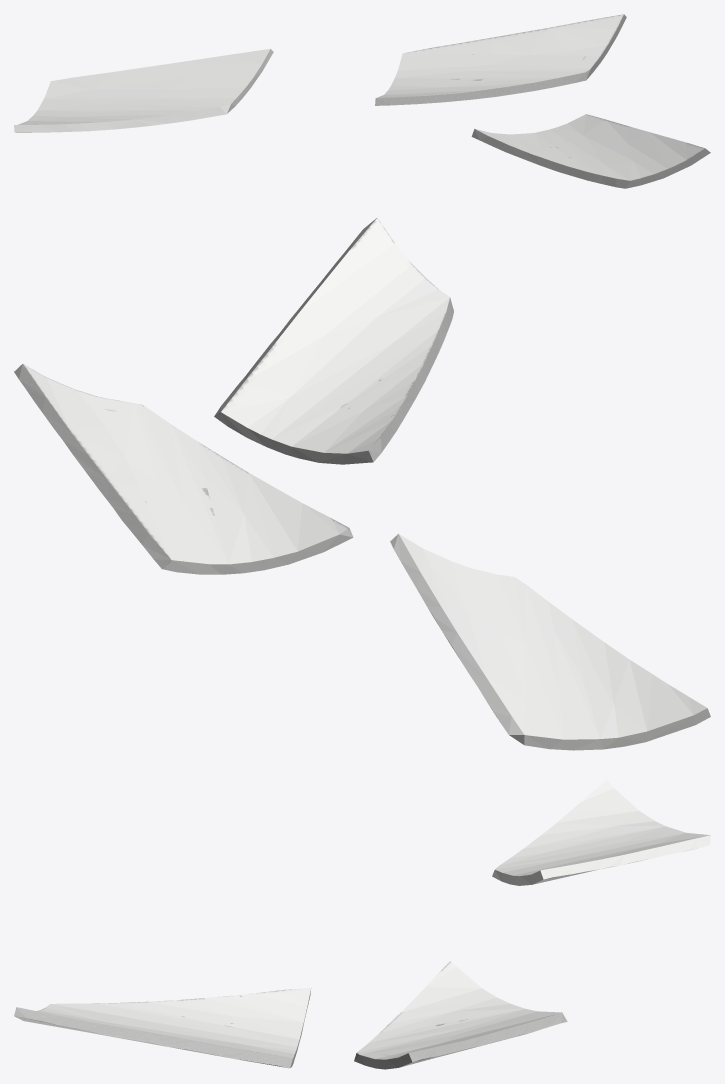
Rendered from scherbenKlein.obj.
The picture shows the model from 3 angles, top to bottom: view 1: azimuth 30°, elevation 25°; view 2: azimuth 150°, elevation 25°; view 3: azimuth 270°, elevation 25°; orthographic projection. The views are drawn at different scales.
Visible parts, largest first — view 1: 300586_23_06_15_12_34_13_2, 300586_23_06_15_12_34_13_3, 300586_23_06_15_12_34_13_1; view 2: 300586_23_06_15_12_34_13_1, 300586_23_06_15_12_34_13_3, 300586_23_06_15_12_34_13_2; view 3: 300586_23_06_15_12_34_13_1, 300586_23_06_15_12_34_13_3, 300586_23_06_15_12_34_13_2.
Part boxes in pixels (x1,y1,x2,y2): 300586_23_06_15_12_34_13_2: (375, 14, 626, 105); 300586_23_06_15_12_34_13_3: (14, 49, 273, 132); 300586_23_06_15_12_34_13_1: (471, 114, 710, 188); 300586_23_06_15_12_34_13_1: (214, 217, 453, 464); 300586_23_06_15_12_34_13_3: (390, 533, 710, 750); 300586_23_06_15_12_34_13_2: (14, 364, 353, 574); 300586_23_06_15_12_34_13_1: (14, 988, 311, 1068); 300586_23_06_15_12_34_13_3: (492, 779, 710, 885); 300586_23_06_15_12_34_13_2: (354, 961, 567, 1069).
Size of the model in its own units: 7.6 by 0.8316 by 6.88.
3 materials, 3 textured.
